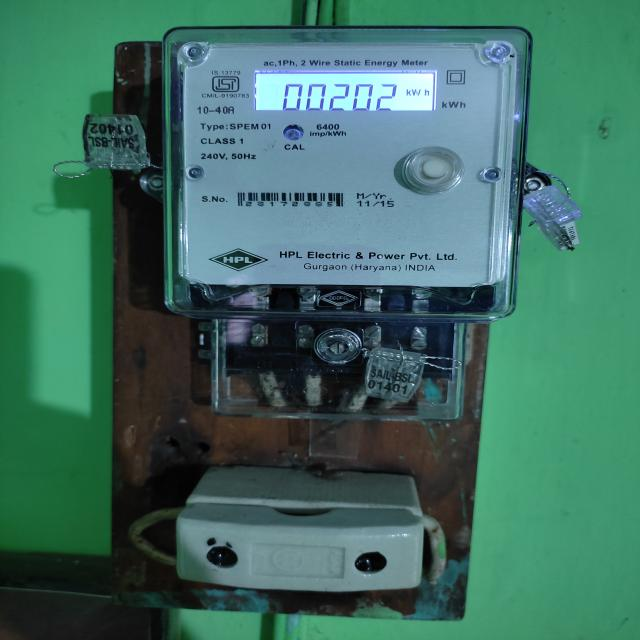display: (253, 69, 441, 112)
